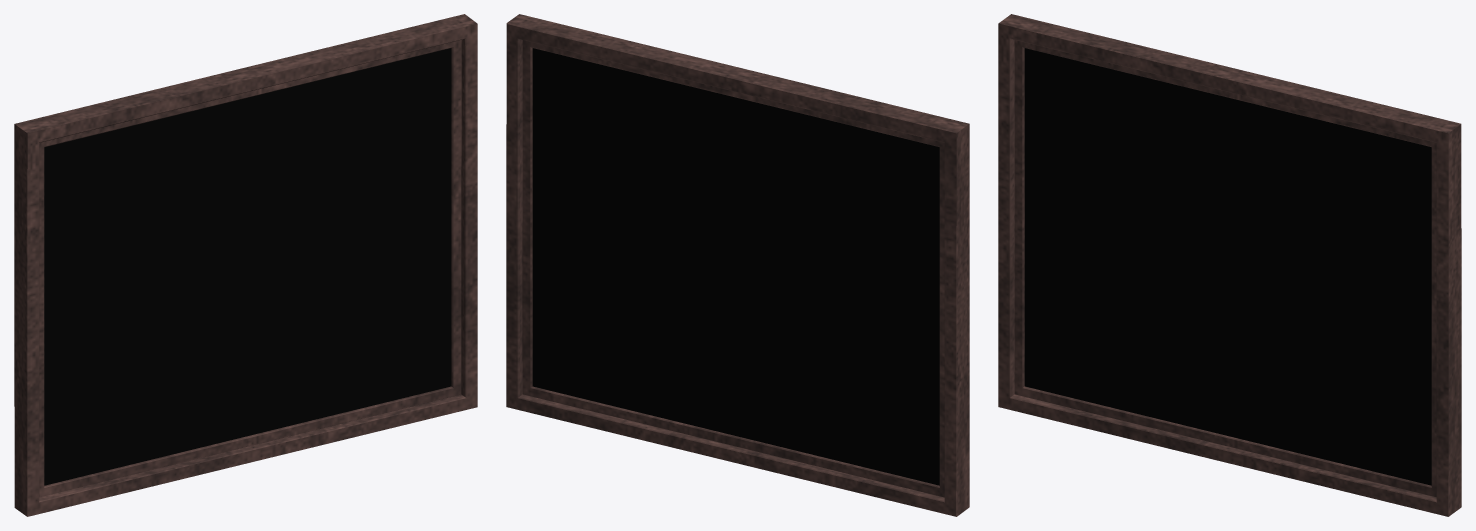
The model's file is WindowFactory73448.spawn_asset14.glb.
3 renders of one model, left to right at view 1: azimuth 30°, elevation 25°; view 2: azimuth 150°, elevation 25°; view 3: azimuth 330°, elevation 25°, orthographic.
Parts seen in each view (by area): view 1: WindowFactory(73448).spawn_asset(14).001; view 2: WindowFactory(73448).spawn_asset(14).001; view 3: WindowFactory(73448).spawn_asset(14).001.
Boxes of the visible parts, left/top/right/bottom form: WindowFactory(73448).spawn_asset(14).001: left=14, top=14, right=477, bottom=516; WindowFactory(73448).spawn_asset(14).001: left=506, top=14, right=969, bottom=516; WindowFactory(73448).spawn_asset(14).001: left=998, top=14, right=1461, bottom=516.
Size of the model in its own units: 1.74 by 1.42 by 0.089.
1 material, 1 textured.
